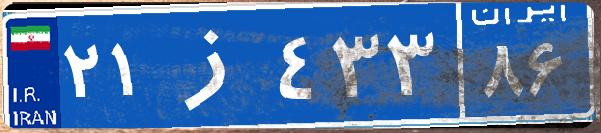1: (110, 28, 158, 105)
2: (57, 26, 110, 107)
3: (385, 28, 445, 110), (330, 28, 385, 110)
4: (273, 28, 330, 110)
6: (525, 38, 570, 115)
8: (475, 38, 525, 113)
ز: (158, 15, 273, 115)
